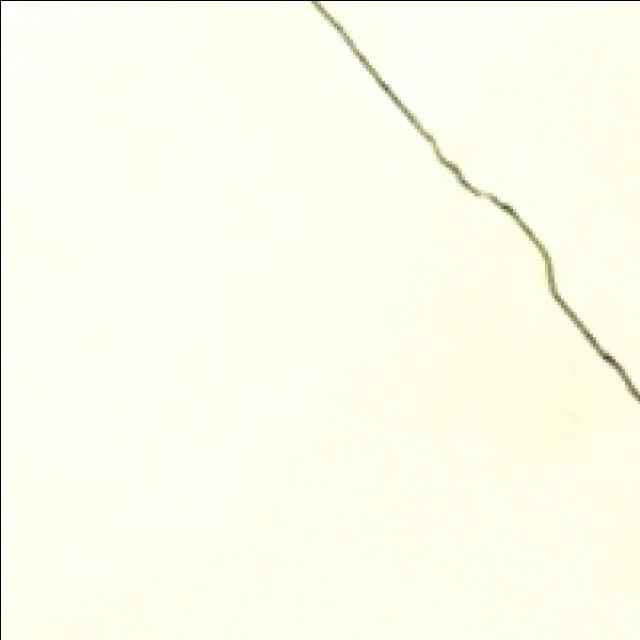SurfaceCrack: (292, 0, 640, 444)
